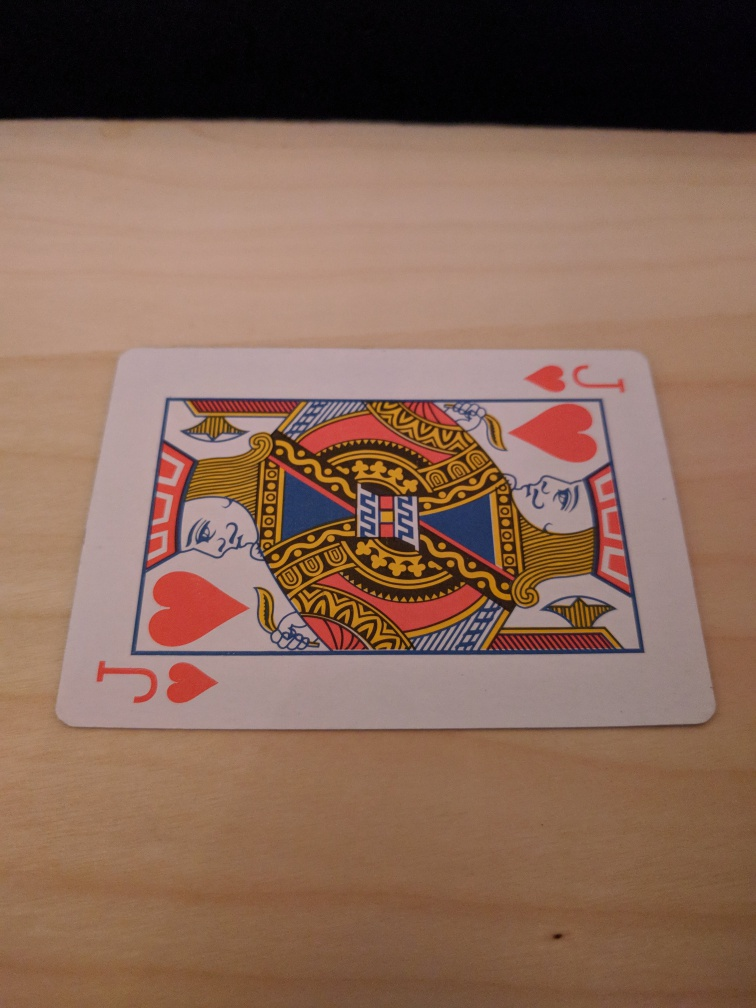jack: (55, 346, 719, 730)
